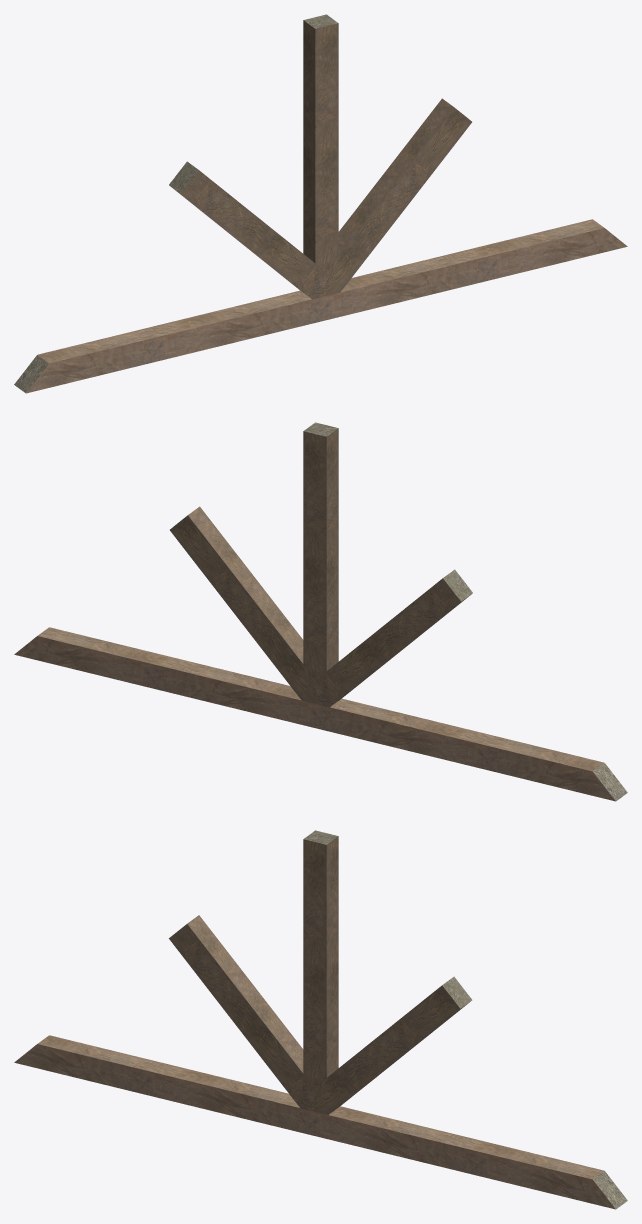
File: RafterSupportA.fbx
The picture shows the model from 3 angles, top to bottom: view 1: azimuth 30°, elevation 25°; view 2: azimuth 150°, elevation 25°; view 3: azimuth 330°, elevation 25°; orthographic projection.
Parts seen in each view (by area): view 1: RafterSupportA; view 2: RafterSupportA; view 3: RafterSupportA.
Boxes of the visible parts, x1,y1,x2,y2 form: RafterSupportA: (14,14,627,393); RafterSupportA: (14,422,627,801); RafterSupportA: (14,830,627,1209).
Bounding box in the file's own units: 778 × 363 × 26.88.
